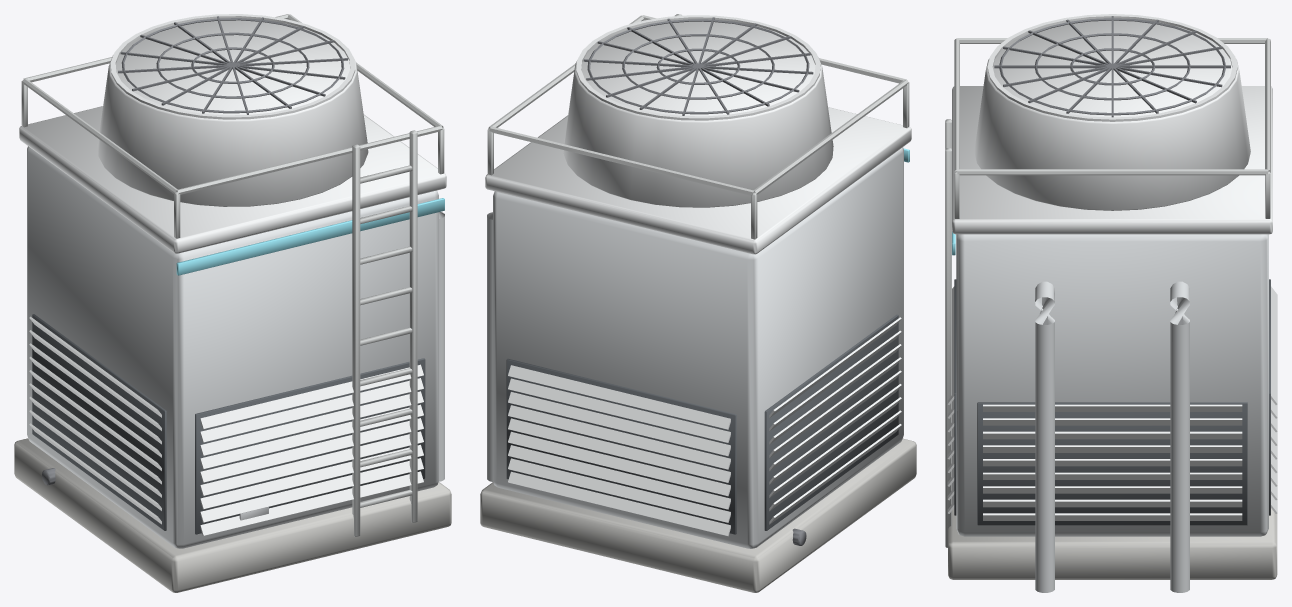
Rendered from cooling_tower.glb.
3 renders of one model, left to right at view 1: azimuth 30°, elevation 25°; view 2: azimuth 150°, elevation 25°; view 3: azimuth 270°, elevation 25°, orthographic. The views are drawn at different scales.
Parts seen in each view (by area): view 1: Body; view 2: Body; view 3: Body.
Part boxes in pixels (x1,y1,x2,y2): Body: (14,14,451,592); Body: (480,14,916,592); Body: (945,14,1277,592).
Size of the model in its own units: 2.26 by 2.92 by 1.97.
